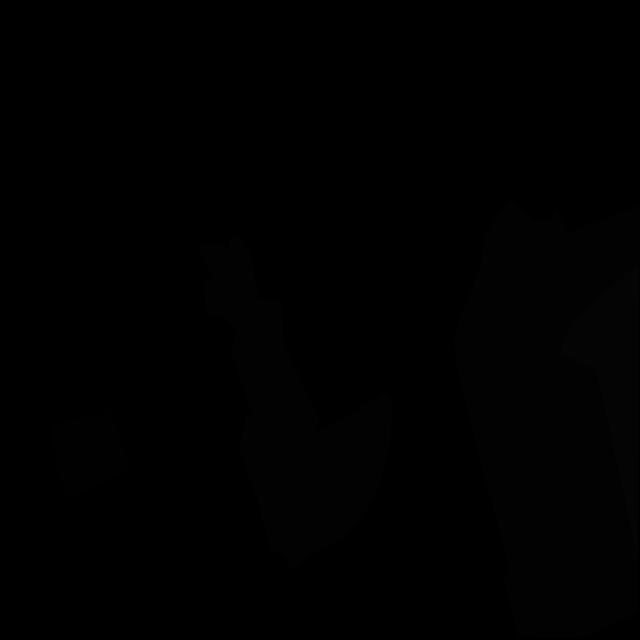cardboard: (454, 196, 640, 639), (238, 392, 392, 570), (197, 236, 320, 433)
rigid_plastic: (51, 406, 132, 496)
soft_plastic: (559, 262, 639, 561)
